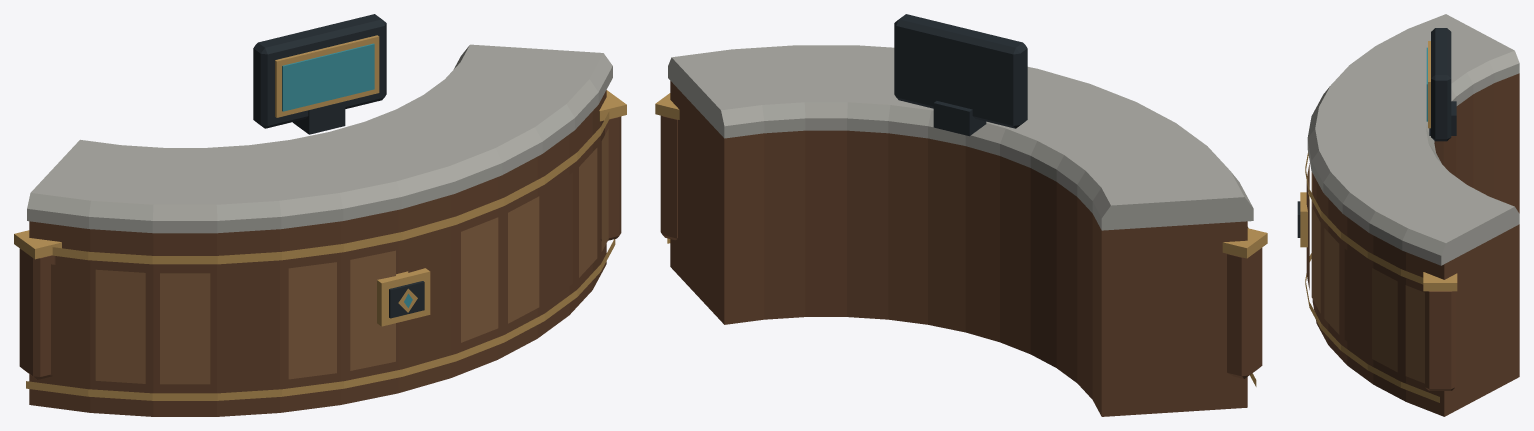
File: 0-20261016-1900-ev001-r01-lobby-receptiondesk.fbx
The picture shows the model from 3 angles, left to right: view 1: azimuth 30°, elevation 25°; view 2: azimuth 150°, elevation 25°; view 3: azimuth 270°, elevation 25°; orthographic projection. The views are drawn at different scales.
Parts seen in each view (by area): view 1: SW_Lobby_ReceptionDesk; view 2: SW_Lobby_ReceptionDesk; view 3: SW_Lobby_ReceptionDesk.
Boxes of the visible parts, left/top/right/bottom form: SW_Lobby_ReceptionDesk: left=14, top=14, right=626, bottom=416; SW_Lobby_ReceptionDesk: left=655, top=14, right=1267, bottom=416; SW_Lobby_ReceptionDesk: left=1297, top=14, right=1519, bottom=416.
Bounding box in the file's own units: 329 × 162 × 131.
